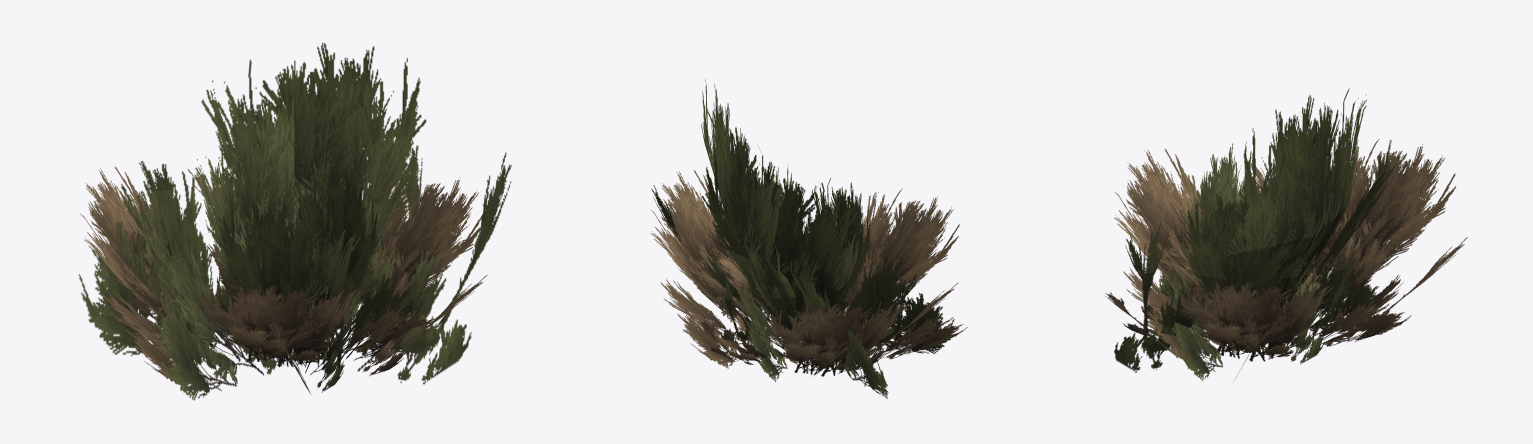
Rendered from Bush_A.glb.
3 views of the same model, side by side, from view 1: azimuth 30°, elevation 25°; view 2: azimuth 150°, elevation 25°; view 3: azimuth 270°, elevation 25° (orthographic). The views are drawn at different scales.
Visible parts, largest first — view 1: BushA_LOD0; view 2: BushA_LOD0; view 3: BushA_LOD0.
Part boxes in pixels (bbox=[...]): BushA_LOD0: bbox=[78, 42, 511, 400]; BushA_LOD0: bbox=[650, 79, 967, 398]; BushA_LOD0: bbox=[1105, 88, 1467, 380].
Size of what is drawn, in the model's own units: 1.97 by 1.24 by 1.87.
1 material, 1 textured.
